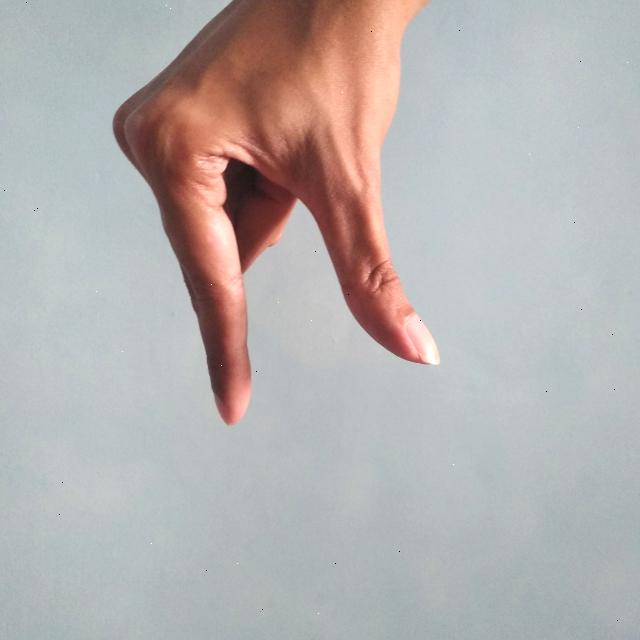Q: (96, 0, 454, 437)
